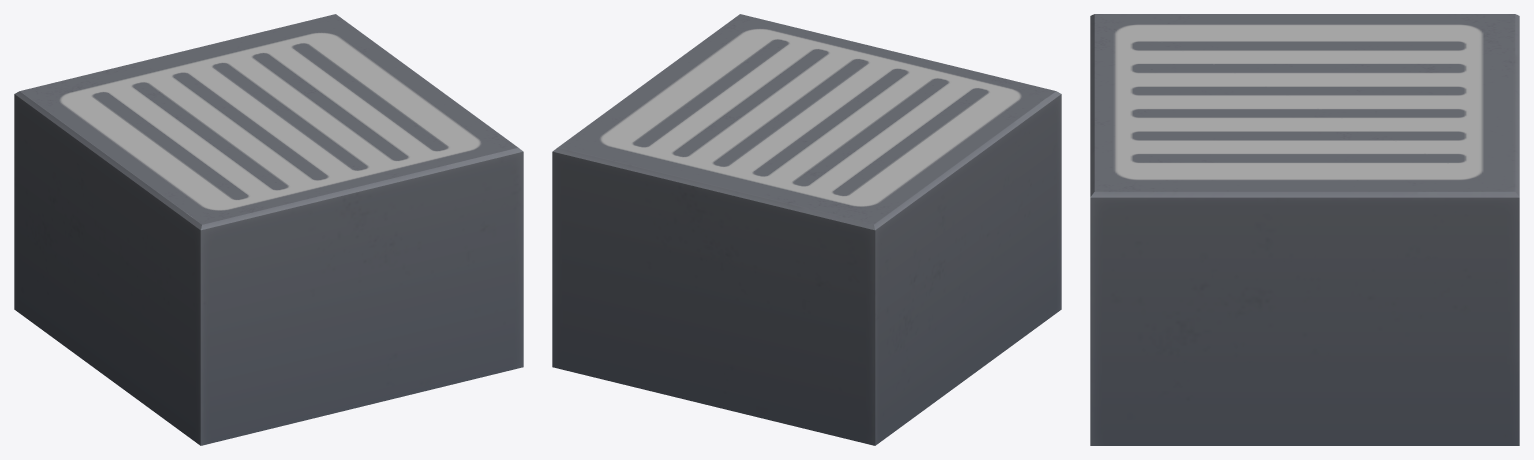
The model's file is floor_iron03.fbx.
The picture shows the model from 3 angles, left to right: view 1: azimuth 30°, elevation 25°; view 2: azimuth 150°, elevation 25°; view 3: azimuth 270°, elevation 25°; orthographic projection. The views are drawn at different scales.
Parts seen in each view (by area): view 1: floor_iron03; view 2: floor_iron03; view 3: floor_iron03.
Part boxes in pixels (x1,y1,x2,y2): floor_iron03: [14, 14, 523, 445]; floor_iron03: [552, 14, 1061, 445]; floor_iron03: [1090, 14, 1519, 445].
Size of the model in its own units: 100 by 64.82 by 100.
1 material, 1 textured.
